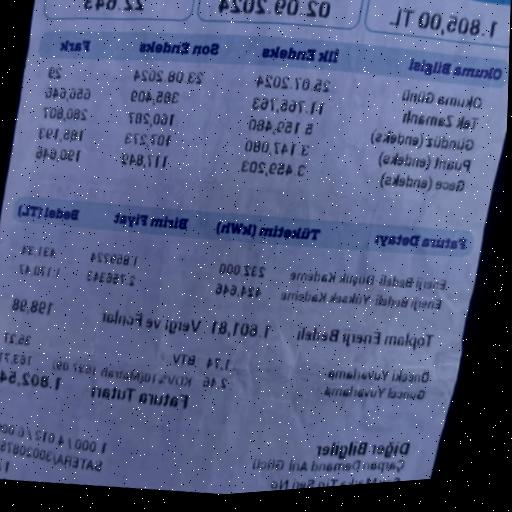electricity-bill: (0, 0, 511, 494)
